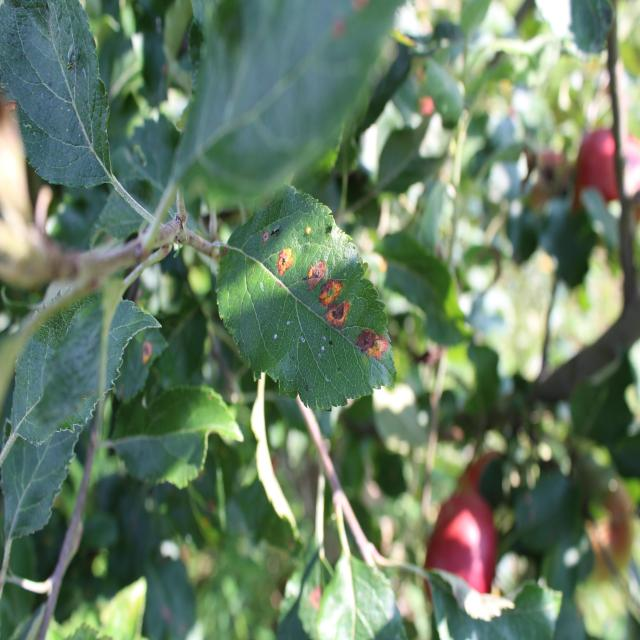Rust: (318, 275, 360, 335), (354, 316, 391, 367), (299, 579, 330, 620), (134, 333, 158, 372), (302, 256, 326, 293), (276, 242, 297, 284)
